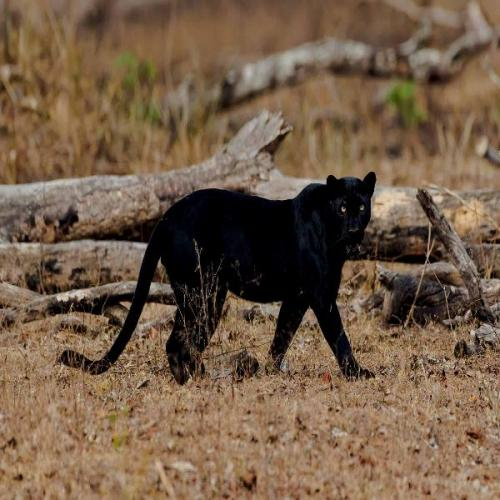panther-endangered: (98, 181, 383, 374)
